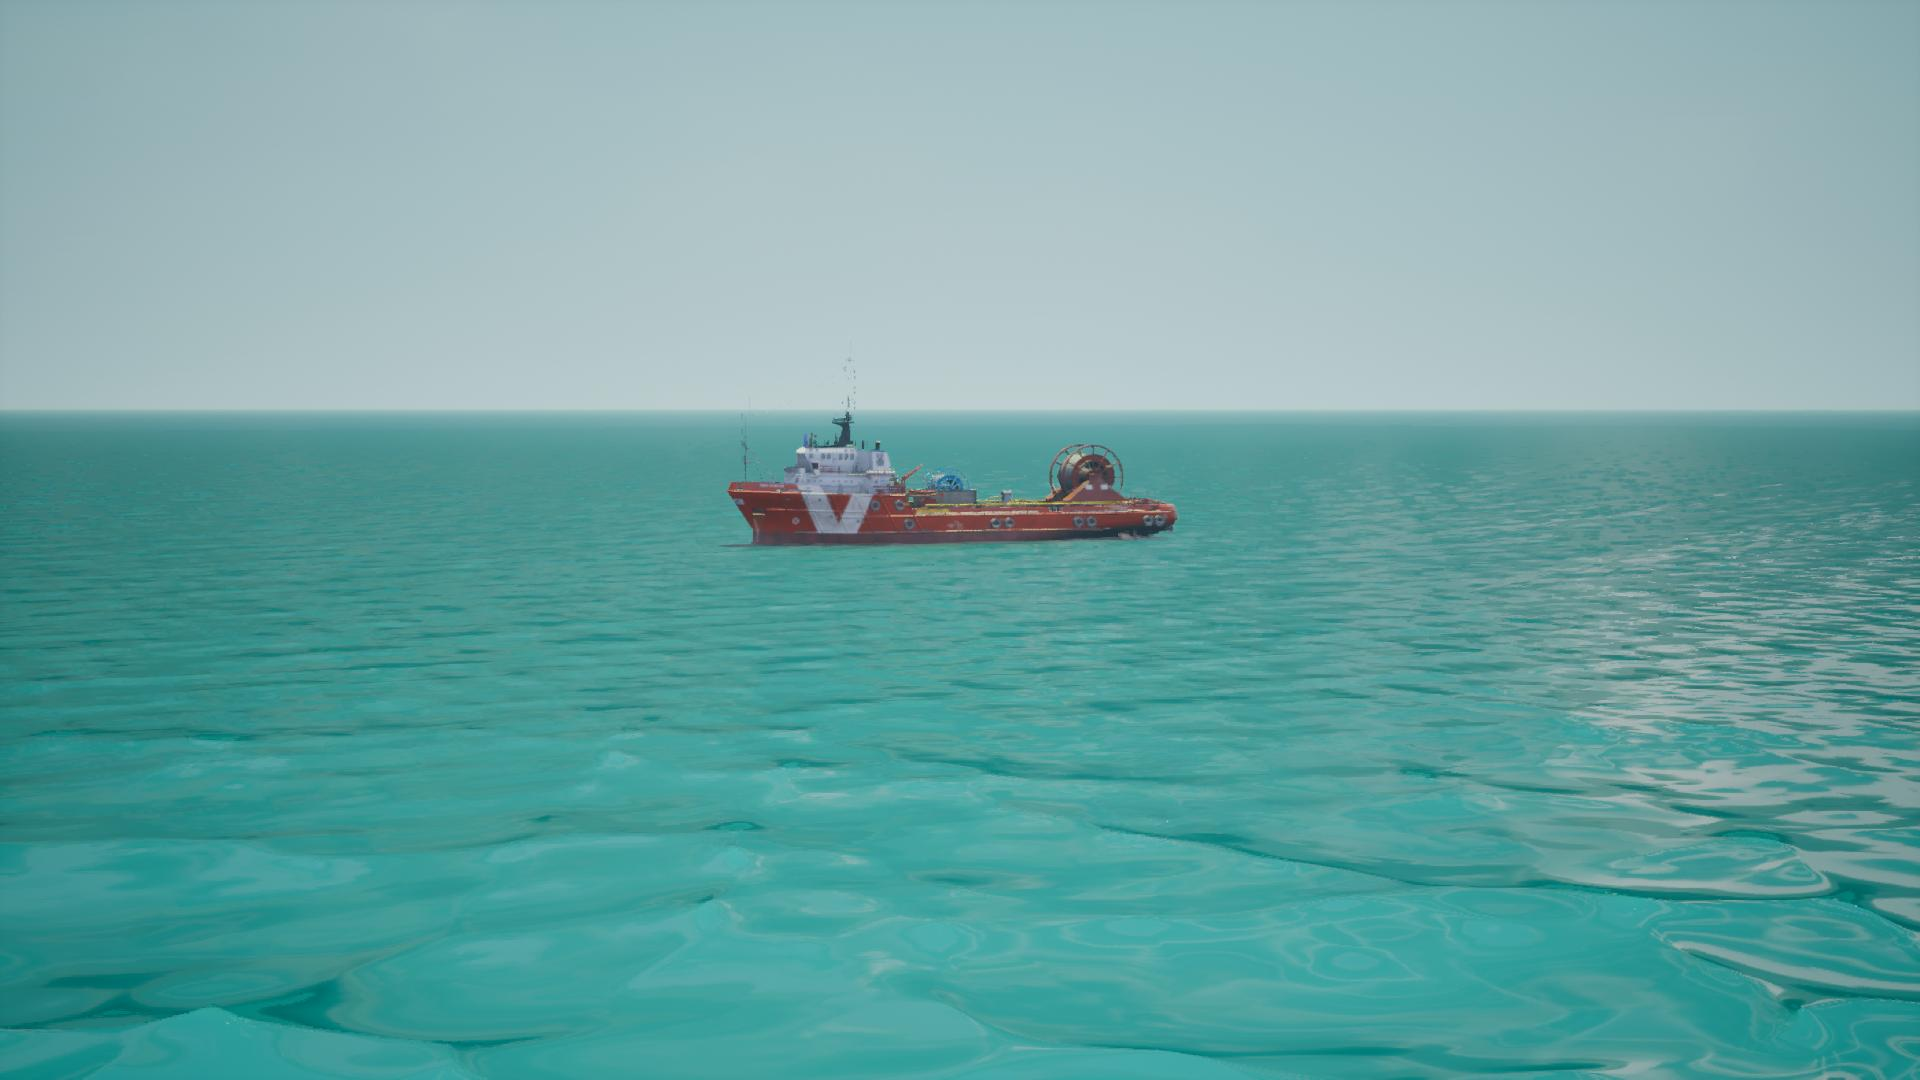Tug Boat: (724, 388, 1176, 555)
